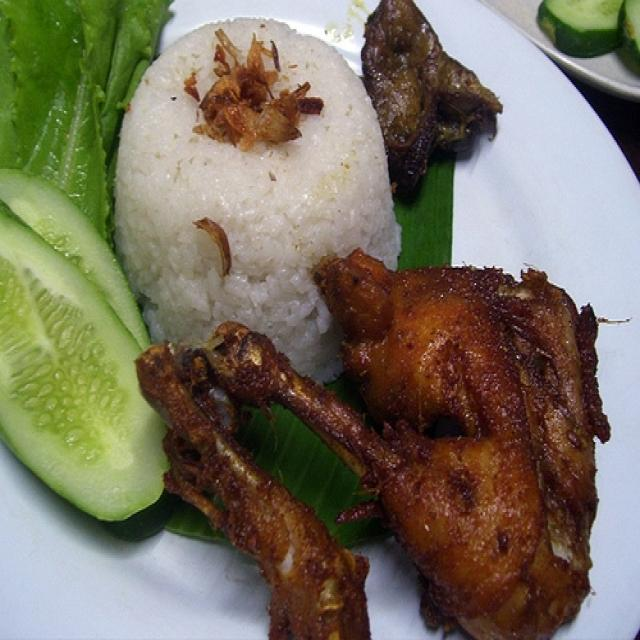米饭主食: (45, 16, 617, 614)
